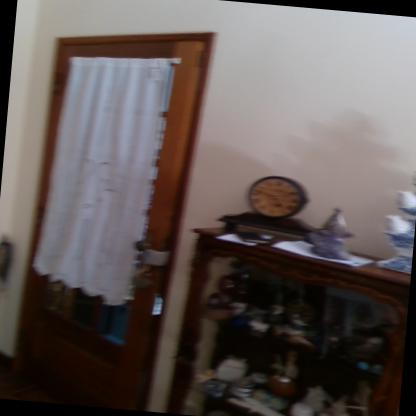closed: (4, 13, 226, 414)
